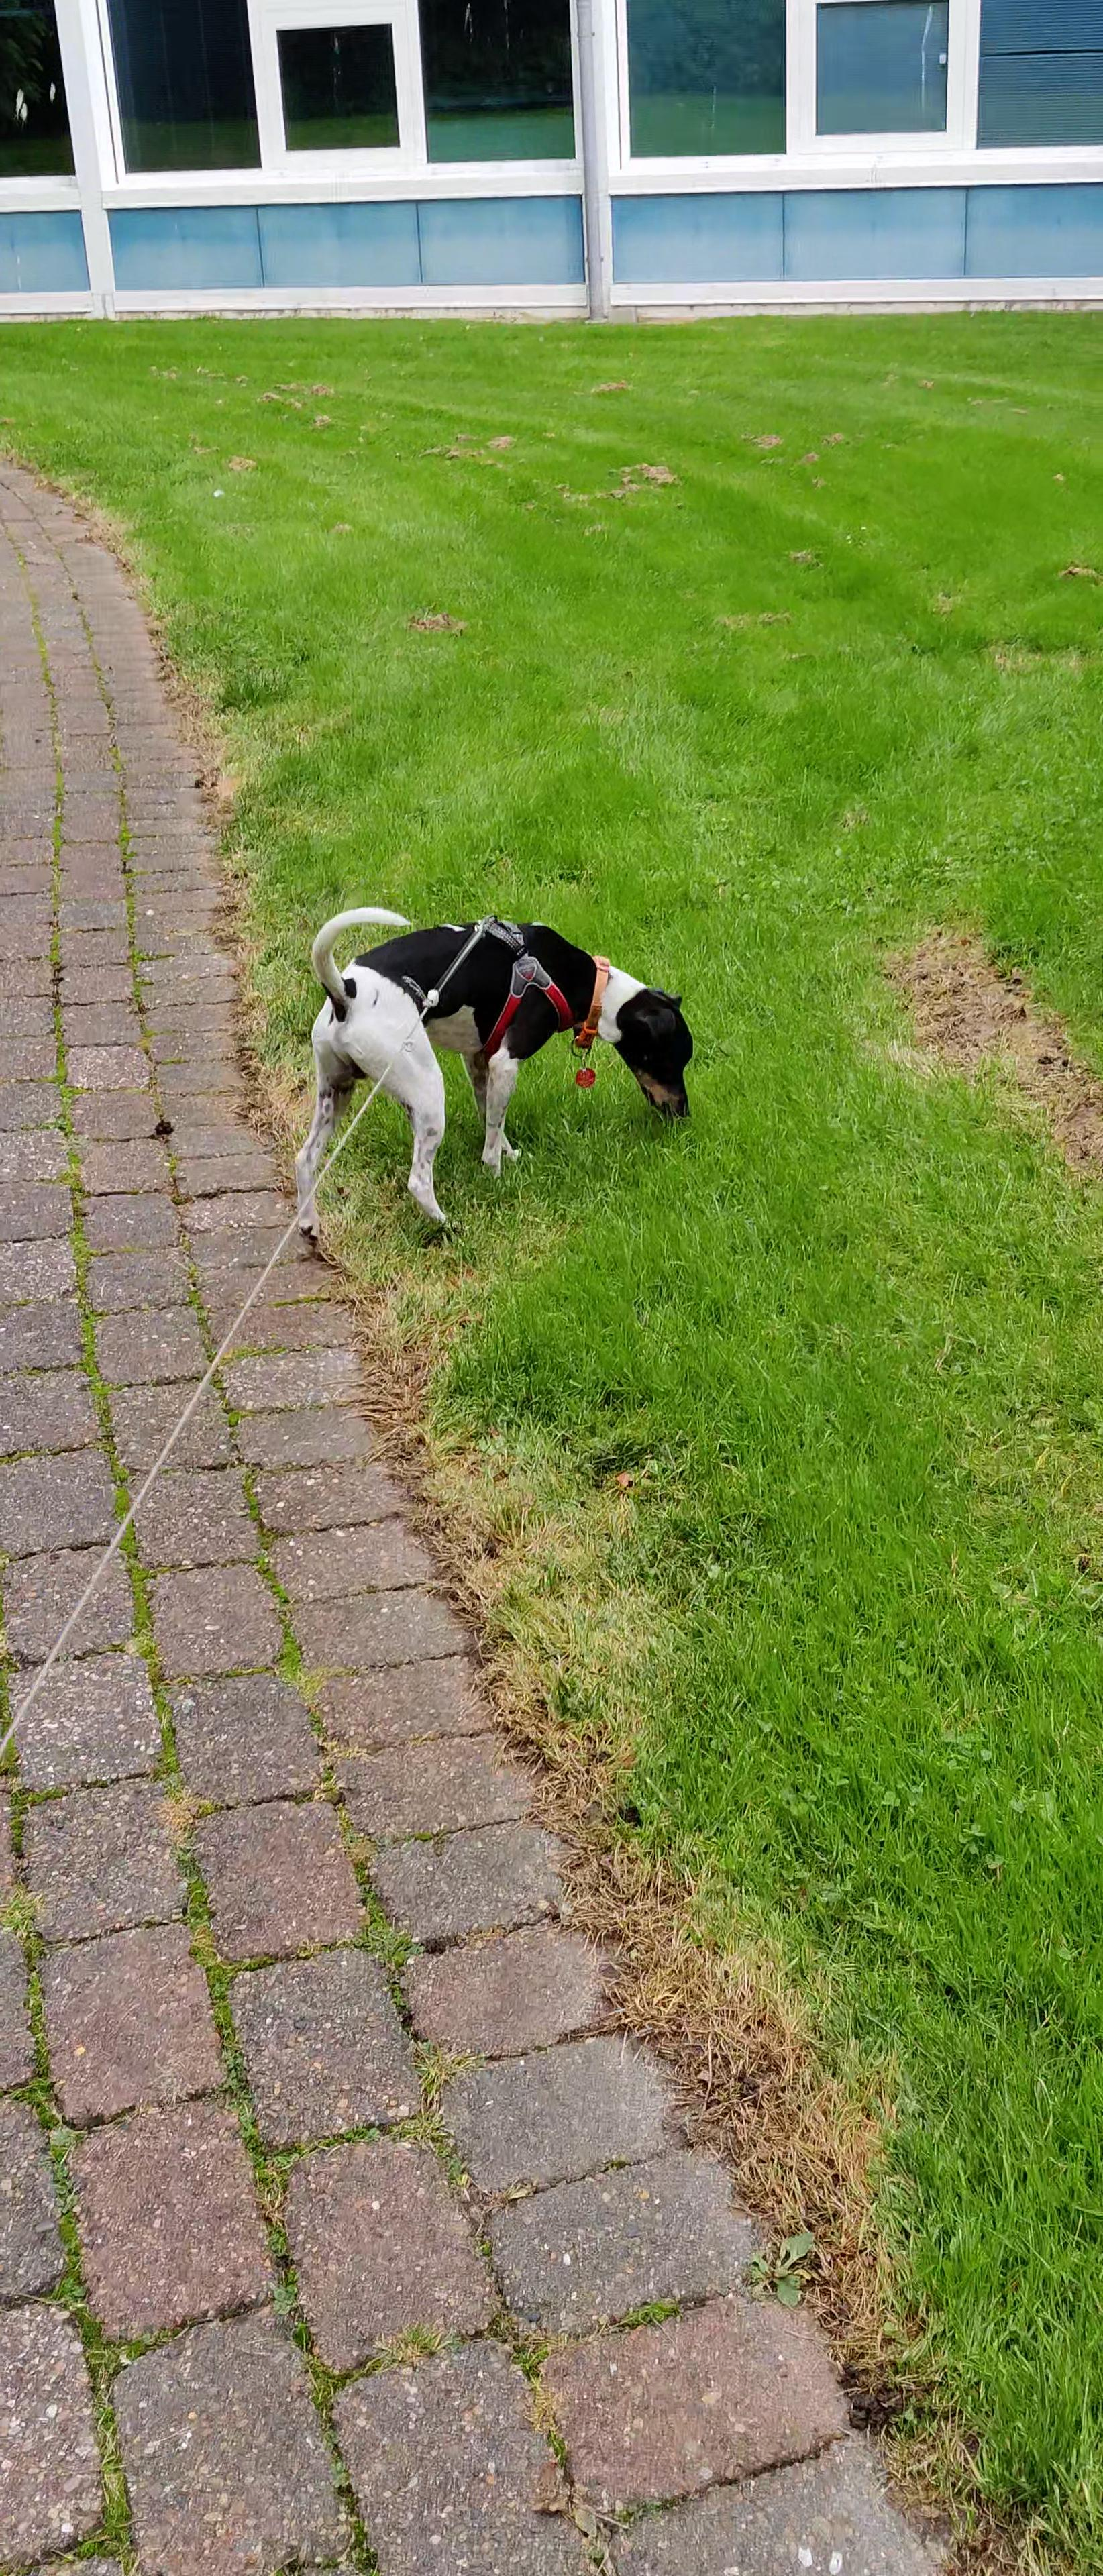Dog: (275, 904, 710, 1263)
